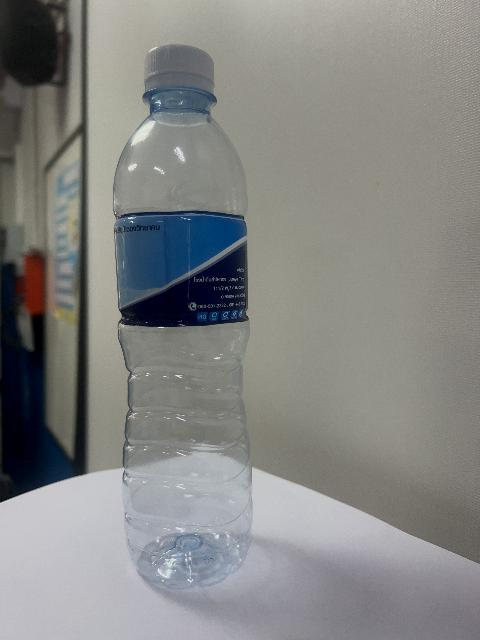bottle: (114, 46, 252, 588)
